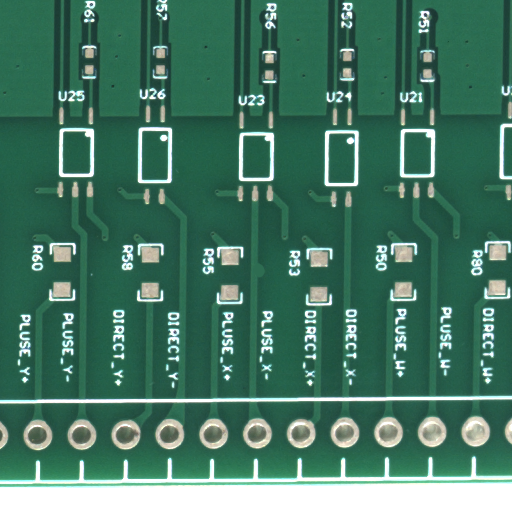Spur: (261, 269, 270, 288)
